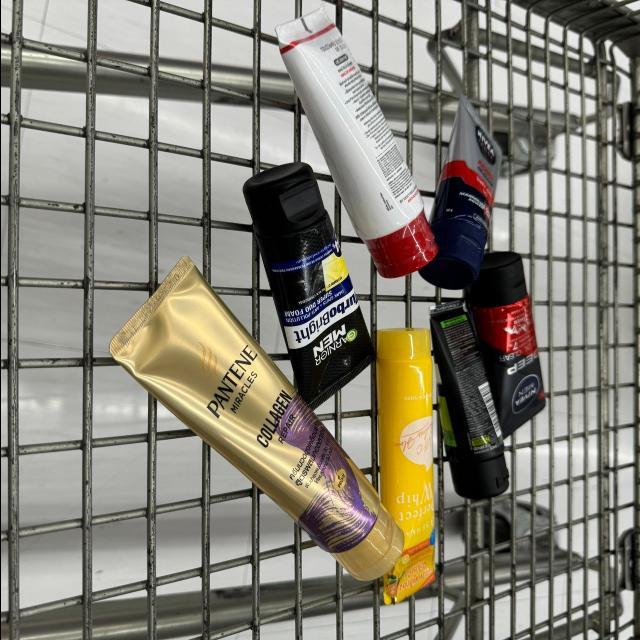Squeeze Tube: (106, 255, 410, 592), (272, 8, 447, 285), (242, 157, 385, 417), (372, 321, 445, 612), (425, 303, 528, 507), (471, 235, 562, 443), (428, 84, 512, 294)
